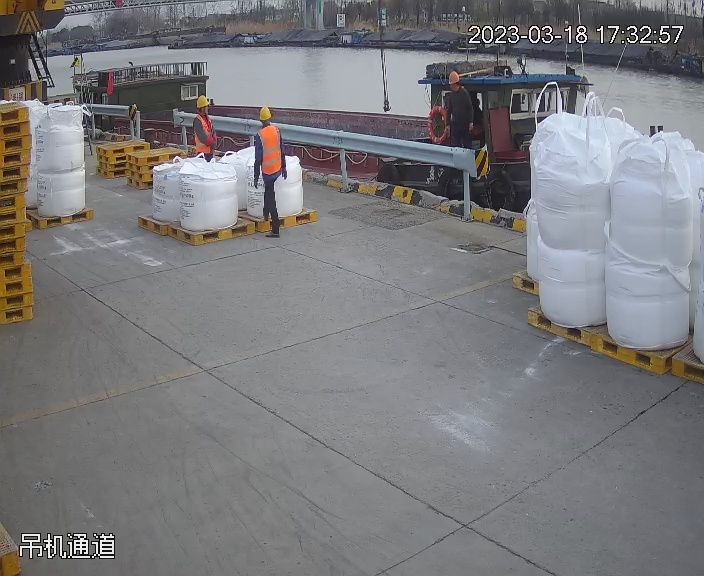head: (253, 103, 282, 146), (442, 68, 472, 108), (192, 94, 214, 127)
helmet: (257, 104, 274, 120), (447, 69, 462, 84), (195, 94, 211, 108)
people: (248, 102, 288, 234), (442, 68, 476, 155), (190, 92, 218, 160)
